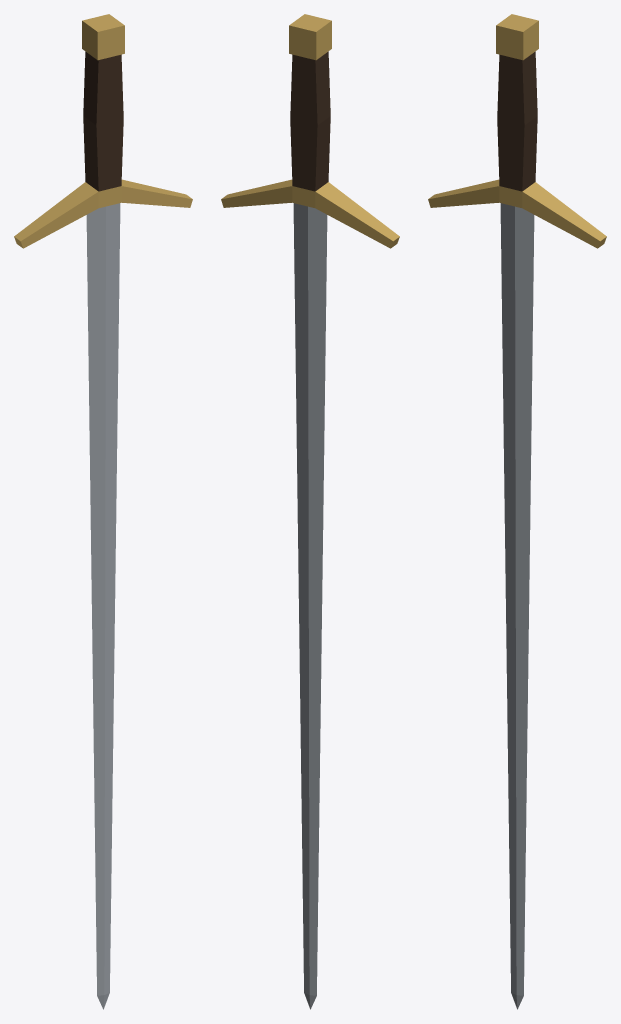
Rendered from long_sword.glb.
3 renders of one model, left to right at view 1: azimuth 30°, elevation 25°; view 2: azimuth 150°, elevation 25°; view 3: azimuth 330°, elevation 25°, orthographic.
Parts seen in each view (by area): view 1: blade, handle, guard, pommel; view 2: blade, handle, guard, pommel; view 3: blade, handle, guard, pommel.
Boxes of the visible parts, <box> form: blade: <box>86,203,120,1009</box>; handle: <box>83,51,123,191</box>; guard: <box>14,179,192,248</box>; pommel: <box>82,14,124,60</box>; blade: <box>293,203,327,1009</box>; handle: <box>290,51,330,191</box>; guard: <box>221,179,399,248</box>; pommel: <box>289,14,331,60</box>; blade: <box>500,203,534,1009</box>; handle: <box>497,51,537,191</box>; guard: <box>428,179,606,248</box>; pommel: <box>496,14,538,60</box>.
Bounding box in the file's own units: 0.2226 × 1.22 × 0.035.
Materials: 1 (1 with a texture image).
